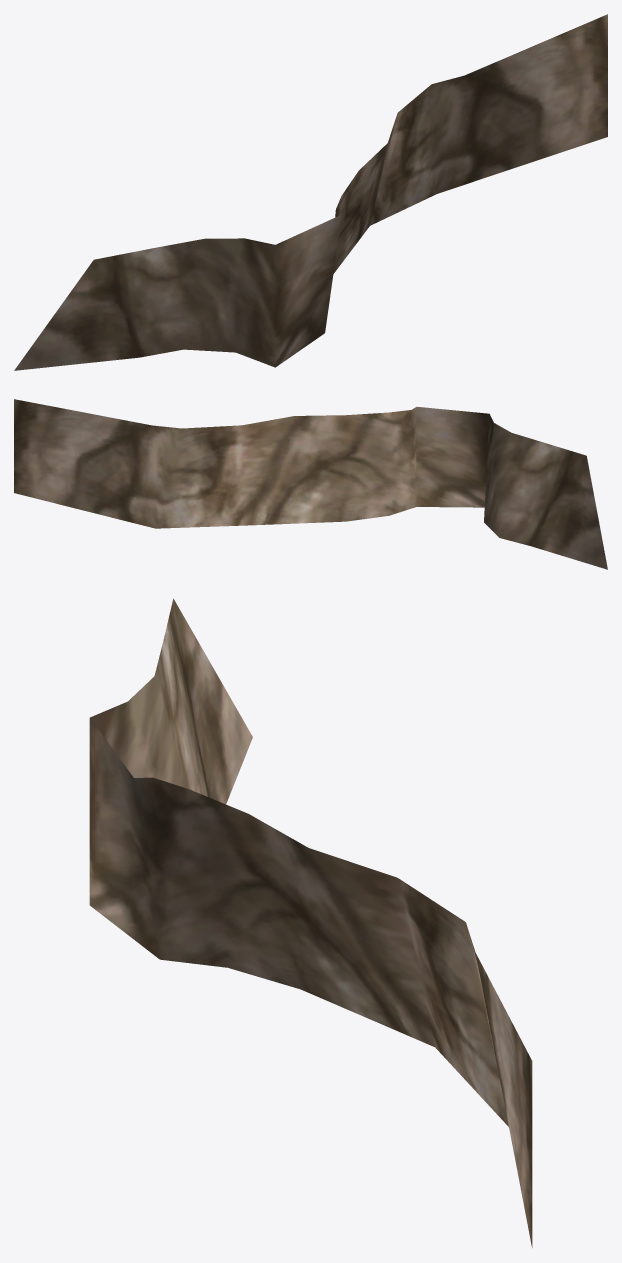
The model's file is EKH_THRONE_PS_TH_RIVER_TRIM_004.fbx.
The picture shows the model from 3 angles, top to bottom: view 1: azimuth 30°, elevation 25°; view 2: azimuth 150°, elevation 25°; view 3: azimuth 270°, elevation 25°; orthographic projection. The views are drawn at different scales.
Parts seen in each view (by area): view 1: EKH_THRONE_PS_TH_RIVER_TRIM_004; view 2: EKH_THRONE_PS_TH_RIVER_TRIM_004; view 3: EKH_THRONE_PS_TH_RIVER_TRIM_004.
Boxes of the visible parts, left/top/right/bottom form: EKH_THRONE_PS_TH_RIVER_TRIM_004: left=14, top=14, right=607, bottom=370; EKH_THRONE_PS_TH_RIVER_TRIM_004: left=14, top=399, right=607, bottom=569; EKH_THRONE_PS_TH_RIVER_TRIM_004: left=89, top=598, right=532, bottom=1247.
Bounding box in the file's own units: 52117 × 9541 × 19048.
1 material, 1 textured.
